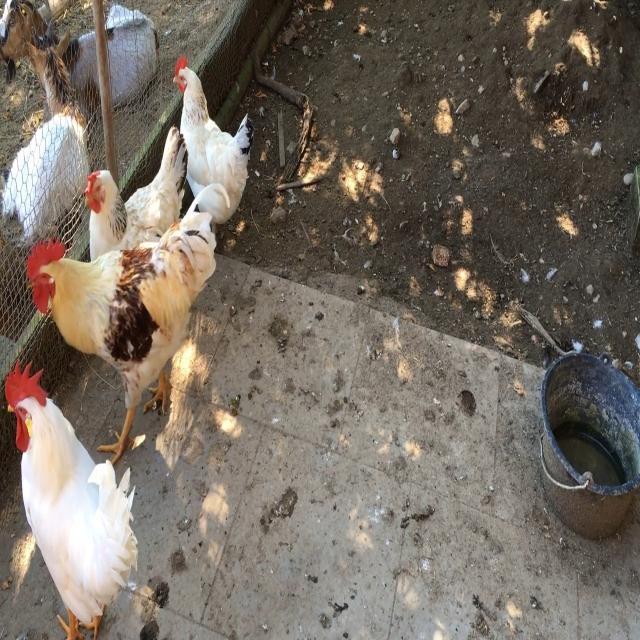chicken: (29, 190, 249, 450), (2, 350, 146, 640), (165, 40, 277, 235)
